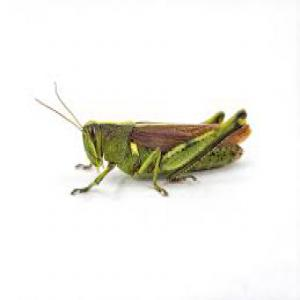locust: (43, 49, 279, 236)
